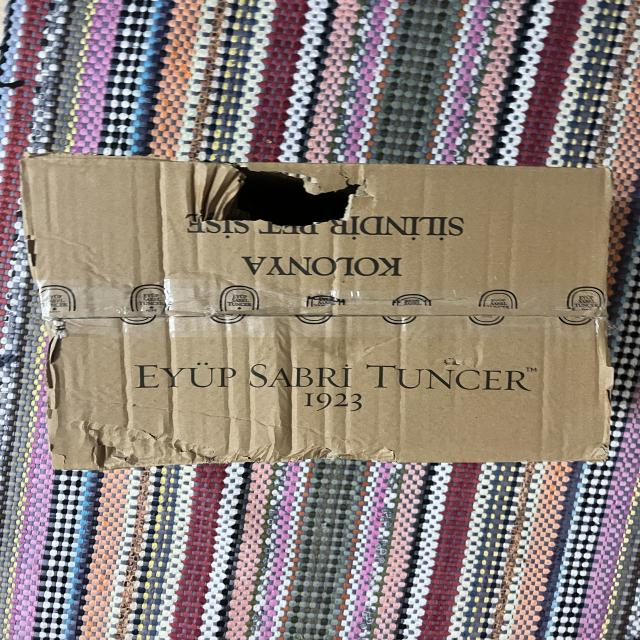damaged: (11, 144, 622, 474), (61, 416, 418, 480), (180, 138, 383, 236)
